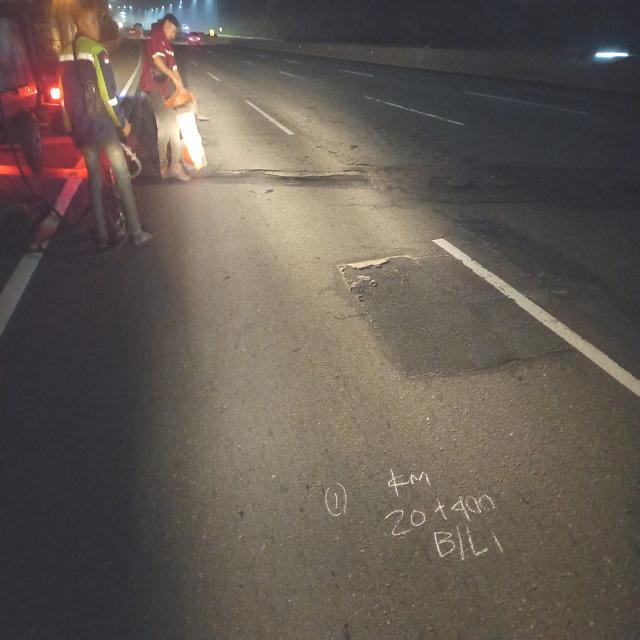Buraco: (334, 255, 394, 277), (444, 174, 484, 192), (596, 180, 640, 196), (493, 179, 518, 193), (194, 113, 213, 123)
